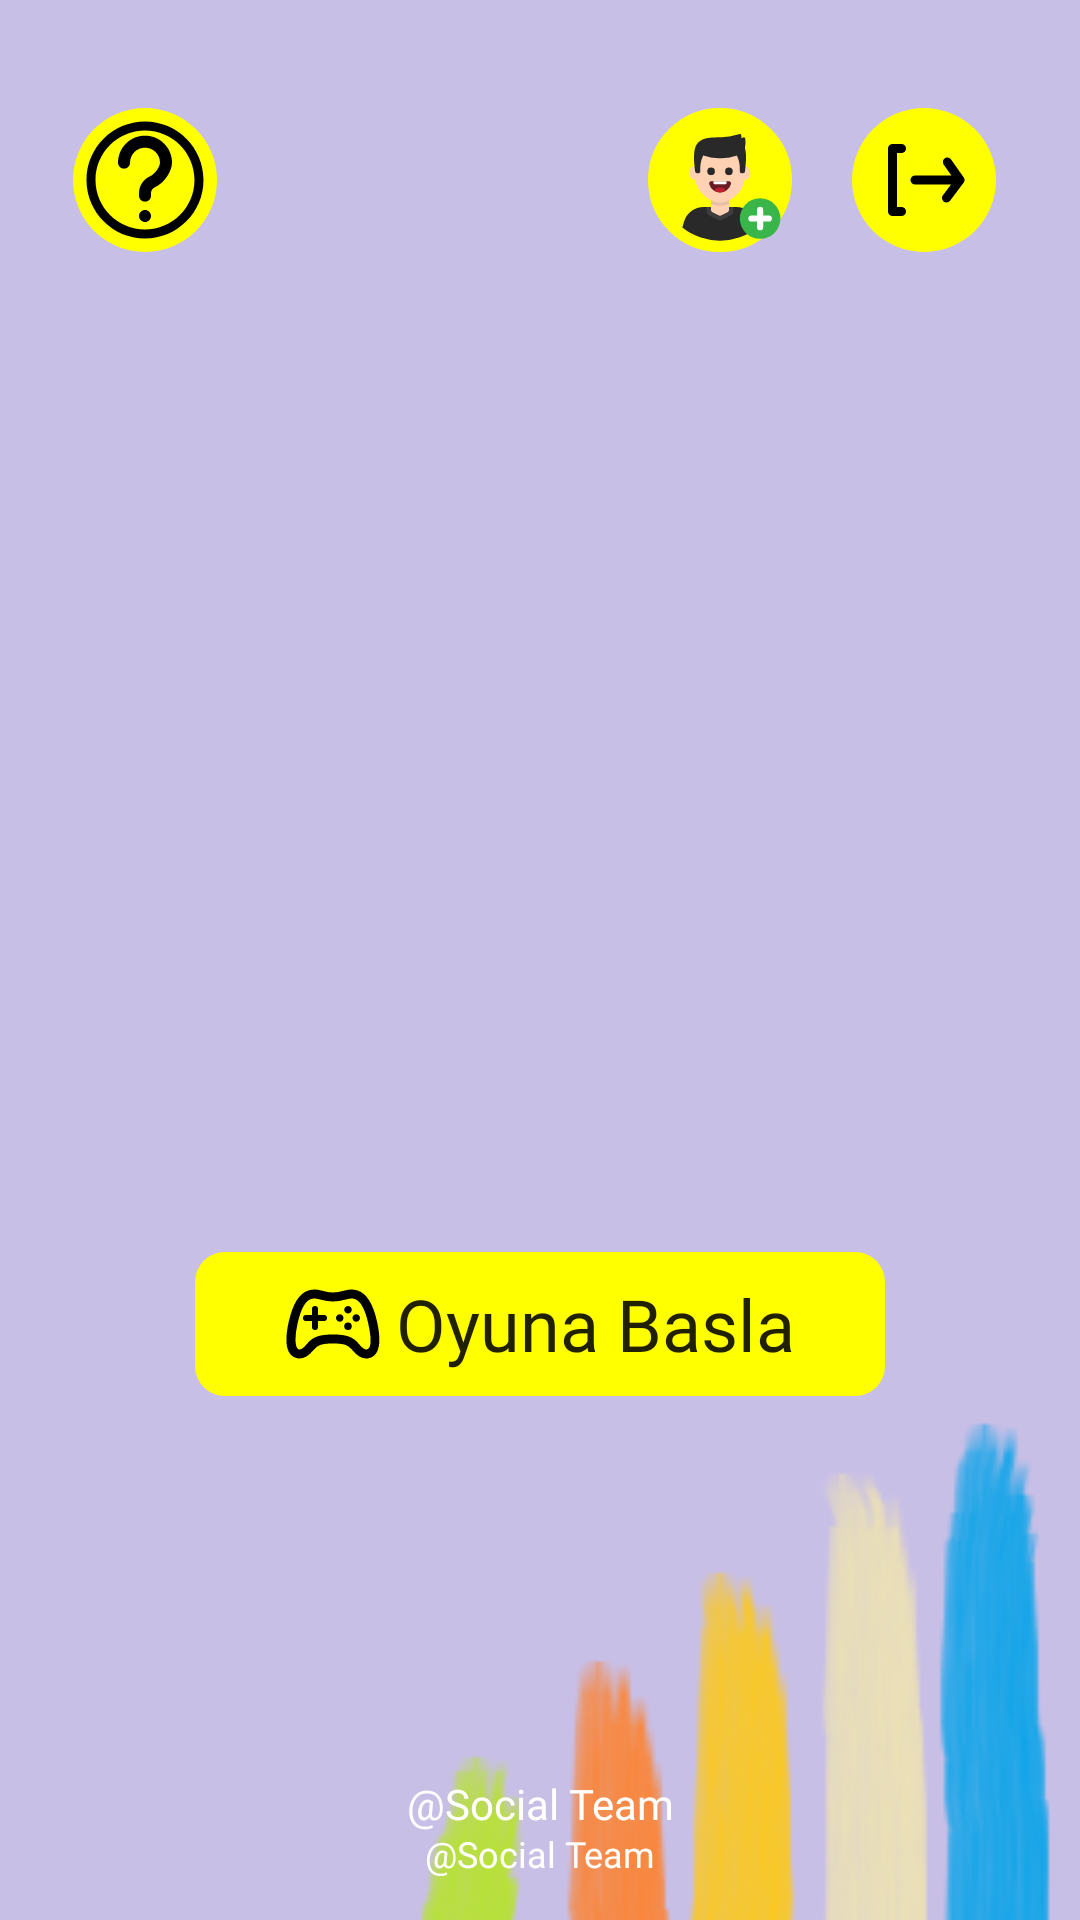

Where icons sit on this 1080 x 1920 app screen, as box(x1, y1, x2, y2):
question: box(73, 108, 217, 252)
useradding: box(648, 108, 792, 252)
